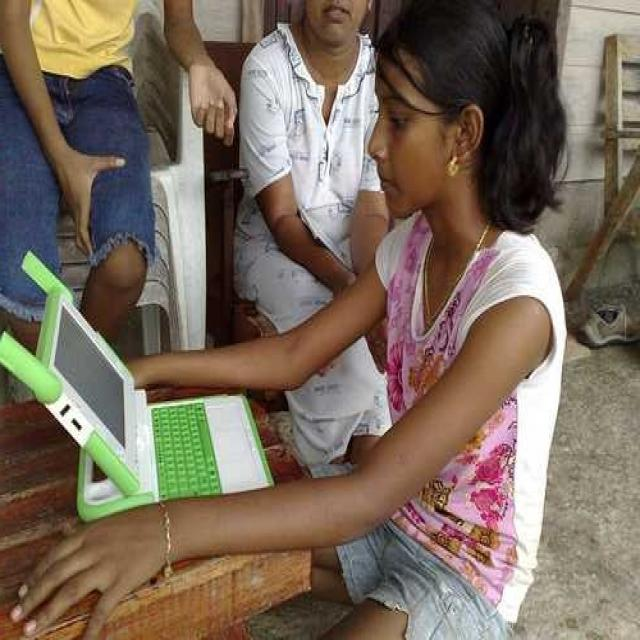laptop: (34, 296, 275, 514)
